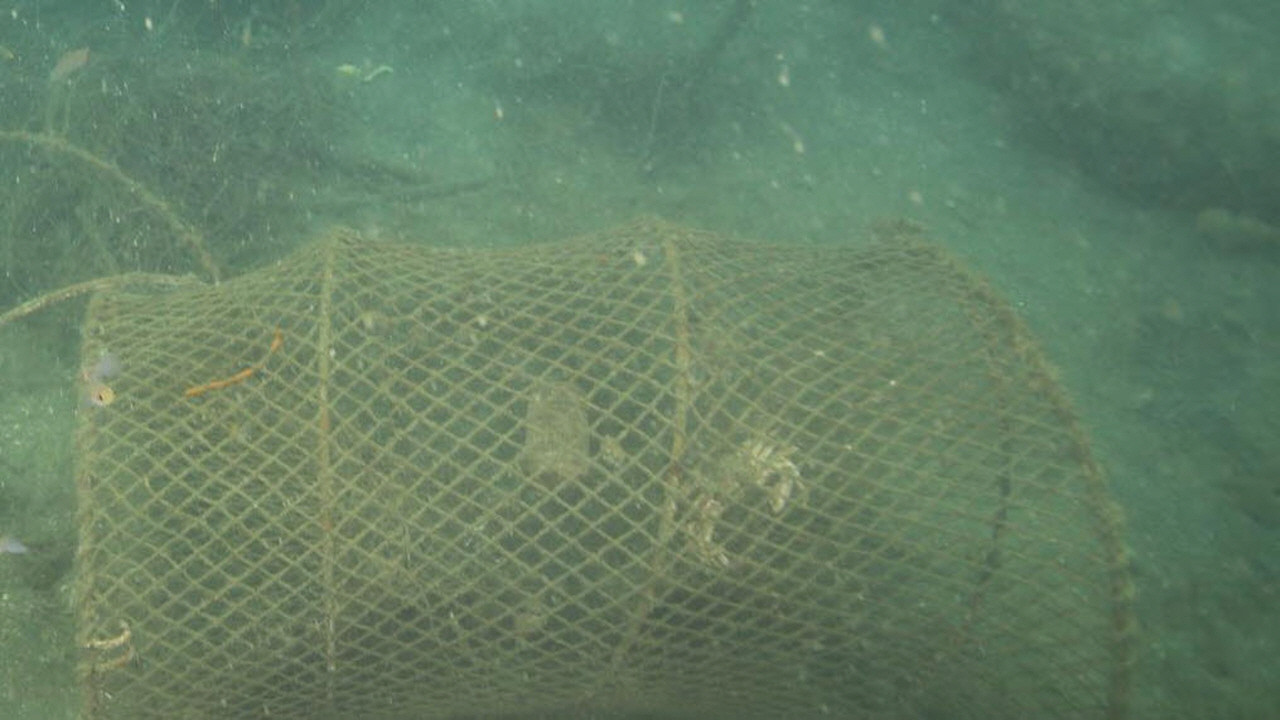spring fish trap: (70, 212, 1142, 720)
